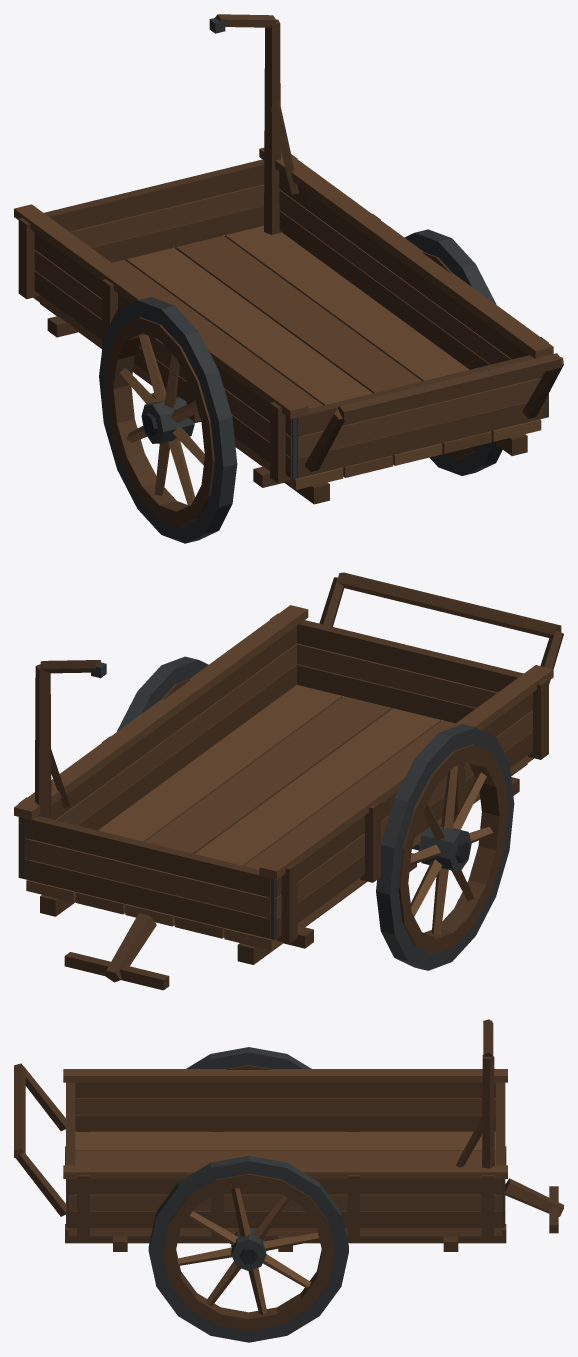
The model's file is prop_cart.glb.
The picture shows the model from 3 angles, top to bottom: view 1: azimuth 30°, elevation 25°; view 2: azimuth 150°, elevation 25°; view 3: azimuth 270°, elevation 25°; orthographic projection. The views are drawn at different scales.
Visible parts, largest first — view 1: Cart, WheelL, WheelR; view 2: Cart, WheelL, WheelR; view 3: Cart, WheelR, WheelL.
Boxes of the visible parts, x1,y1,x2,y2 form: Cart: (14, 14, 563, 504); WheelL: (99, 297, 237, 543); WheelR: (404, 229, 502, 475); Cart: (14, 572, 563, 990); WheelL: (376, 724, 514, 970); WheelR: (117, 656, 208, 731); Cart: (14, 1019, 563, 1251); WheelR: (148, 1156, 348, 1342); WheelL: (186, 1047, 311, 1069).
Bounding box in the file's own units: 1.6 × 1.74 × 2.99.
